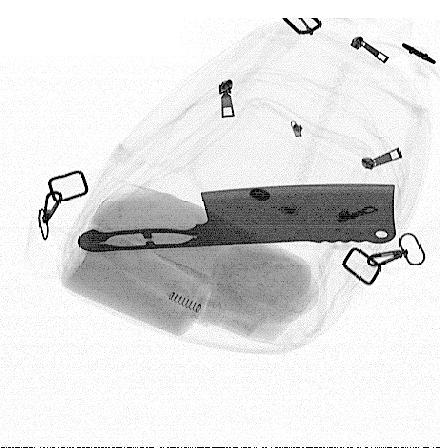Knife: (76, 183, 396, 252)
